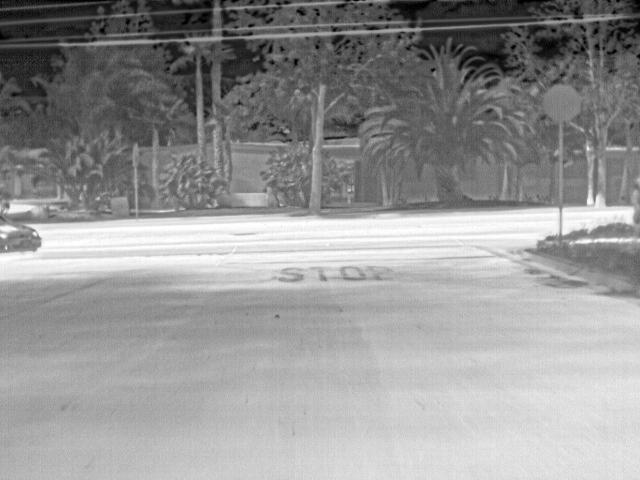car: (0, 213, 47, 255)
person: (628, 176, 639, 241)
